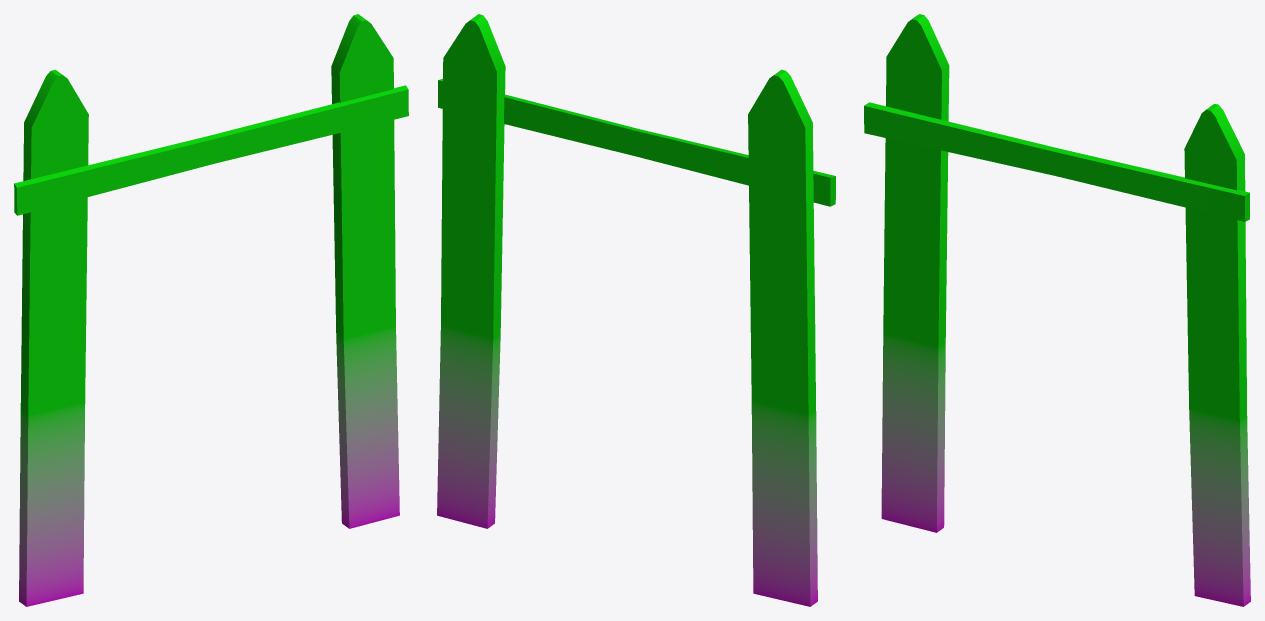
3 views of the same model, side by side, from view 1: azimuth 30°, elevation 25°; view 2: azimuth 150°, elevation 25°; view 3: azimuth 330°, elevation 25° (orthographic). The views are drawn at different scales.
Visible parts, largest first — view 1: G:\FFXIV-MapTools\exports\f1f2\bg\ffxiv\fst_f1\fld\f1f2\bgpa; view 2: G:\FFXIV-MapTools\exports\f1f2\bg\ffxiv\fst_f1\fld\f1f2\bgpa; view 3: G:\FFXIV-MapTools\exports\f1f2\bg\ffxiv\fst_f1\fld\f1f2\bgpa.
Part boxes in pixels (x1,y1,x2,y2): G:\FFXIV-MapTools\exports\f1f2\bg\ffxiv\fst_f1\fld\f1f2\bgpa: (14, 14, 408, 606); G:\FFXIV-MapTools\exports\f1f2\bg\ffxiv\fst_f1\fld\f1f2\bgpa: (437, 14, 835, 606); G:\FFXIV-MapTools\exports\f1f2\bg\ffxiv\fst_f1\fld\f1f2\bgpa: (864, 14, 1250, 606).
Bounding box in the file's own units: 1.62 × 2.06 × 0.0876.
